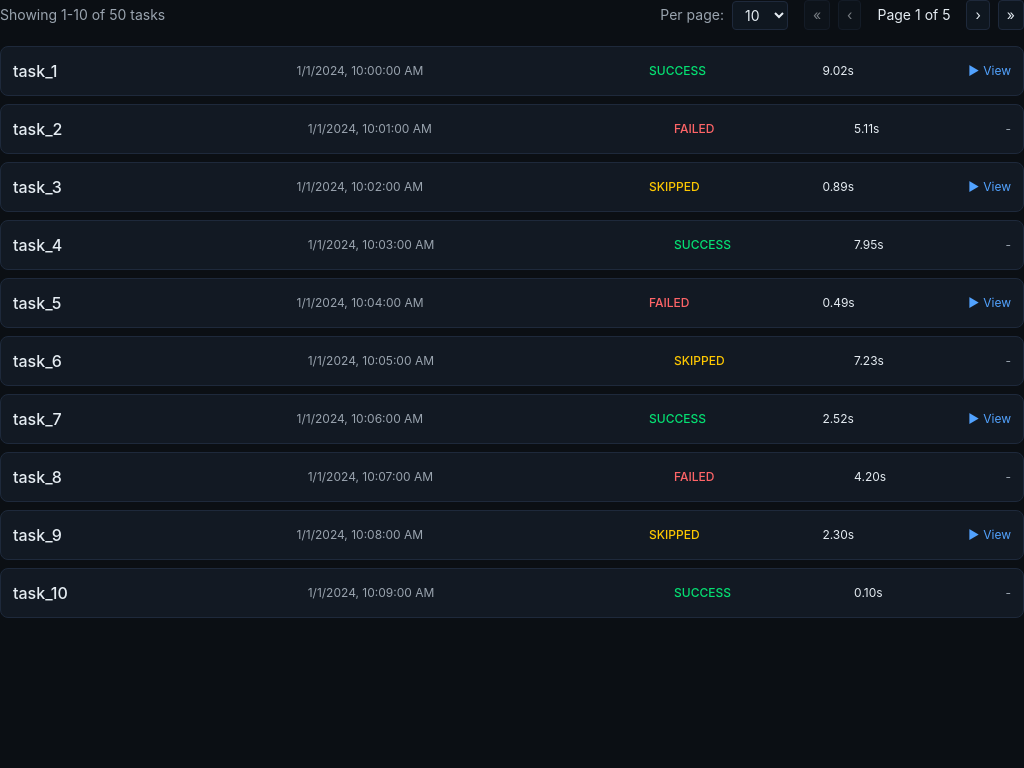
Test: ServiceTasksTable › Bug #75: Pagination functionality › allows changing page size to 25
// Change page size to 25
Select "25" in the dropdown. click: (760,15)
box: left=732, top=0, right=788, bottom=30
(page scrolled)
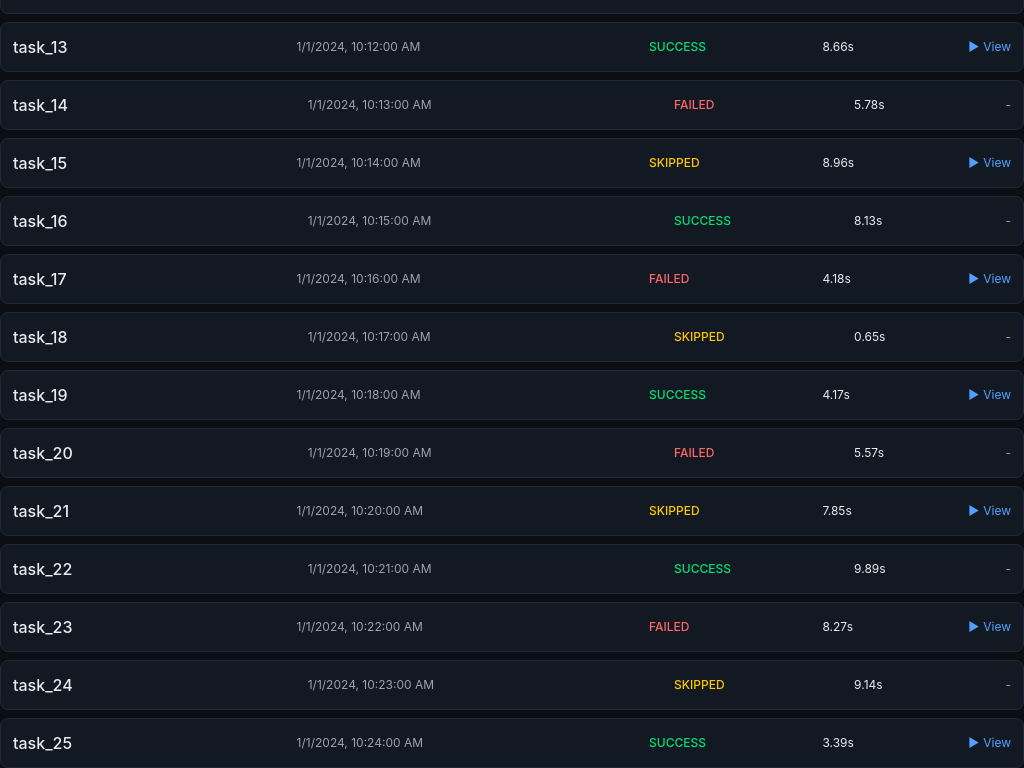
Check: the text "task_25" is shown, box left=13, top=733, right=72, bottom=753
